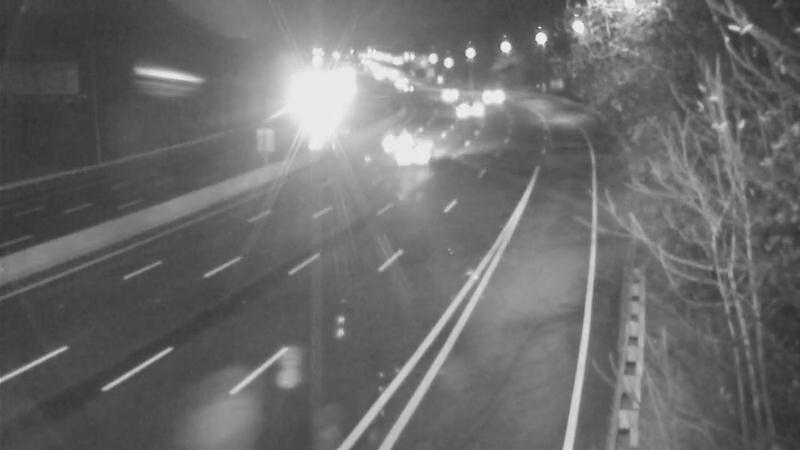vehicle: (385, 118, 465, 198), (387, 63, 437, 113), (421, 70, 471, 120), (471, 67, 521, 117), (444, 87, 494, 137), (368, 111, 418, 161), (289, 79, 339, 129)
